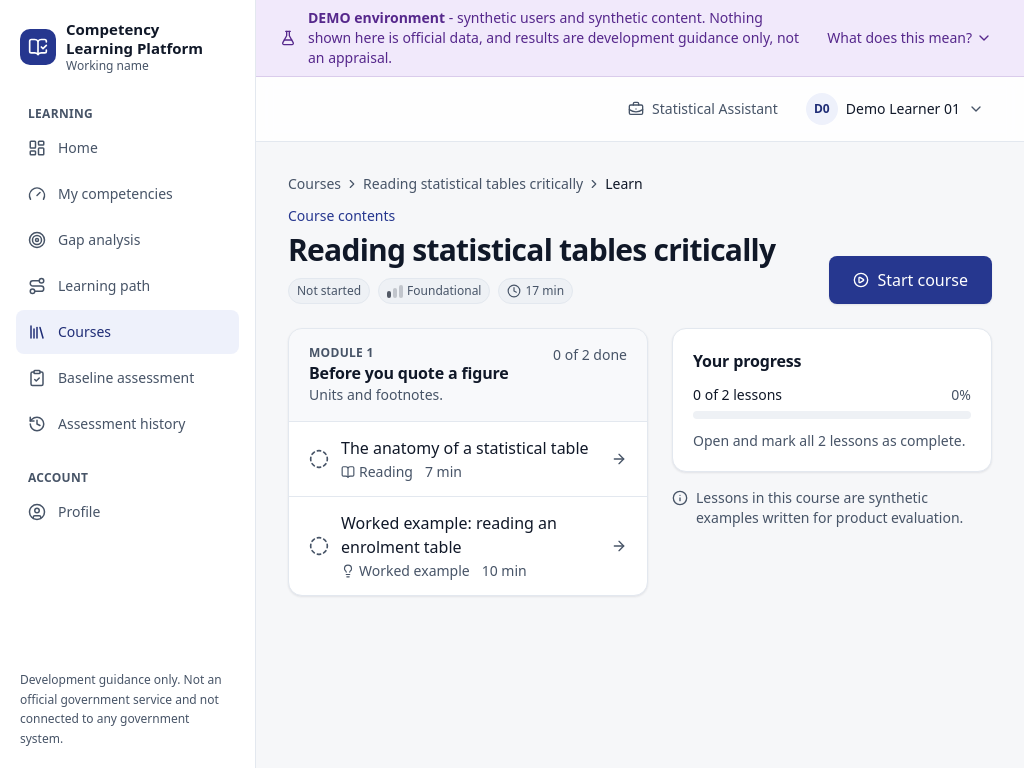
course learning hub › starts the course and opens the first lesson
Expected: the heading "Reading statistical tables critically" is shown, [288,232,775,268]
Expected: the text "Open and mark all 2 lessons as complete." is shown, [693,431,971,451]
Step 1. Click the button "Start course" → click(911, 280), box [829,256,992,304]
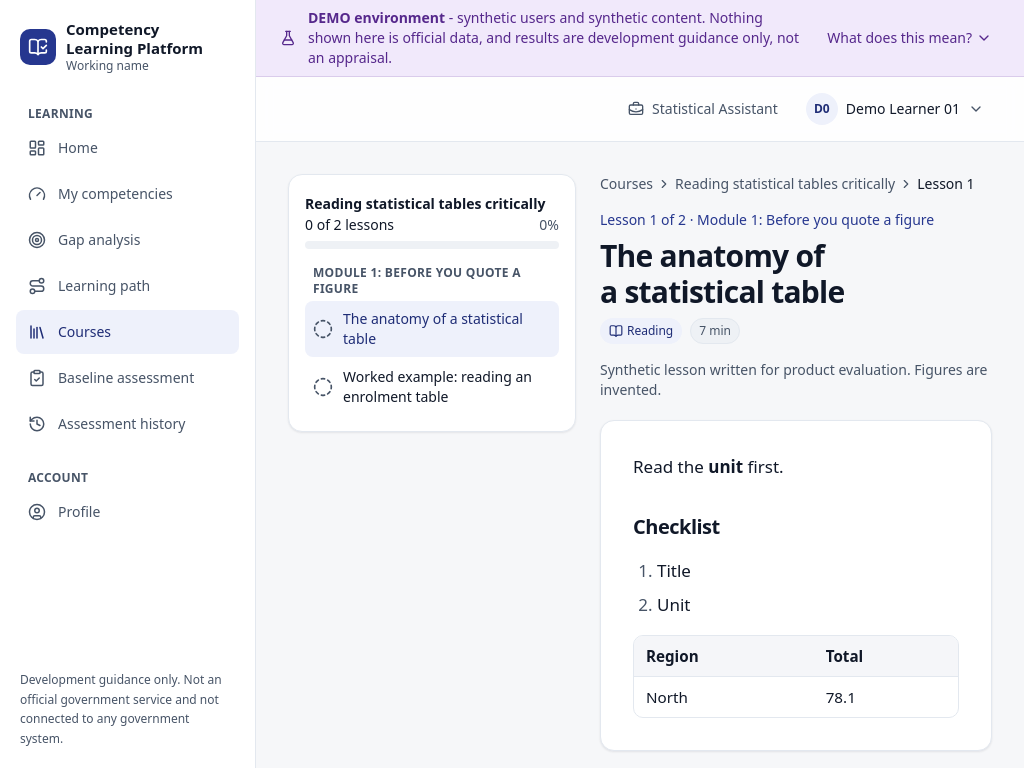
Result: the heading "The anatomy of a statistical table" is shown at [600,235,844,312]
